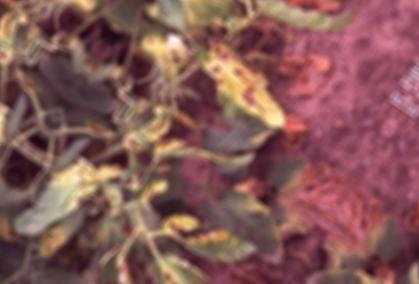Tomato Early blight leaf: (10, 125, 137, 265), (190, 38, 299, 129), (154, 193, 257, 284), (154, 109, 244, 193), (135, 239, 255, 284)
